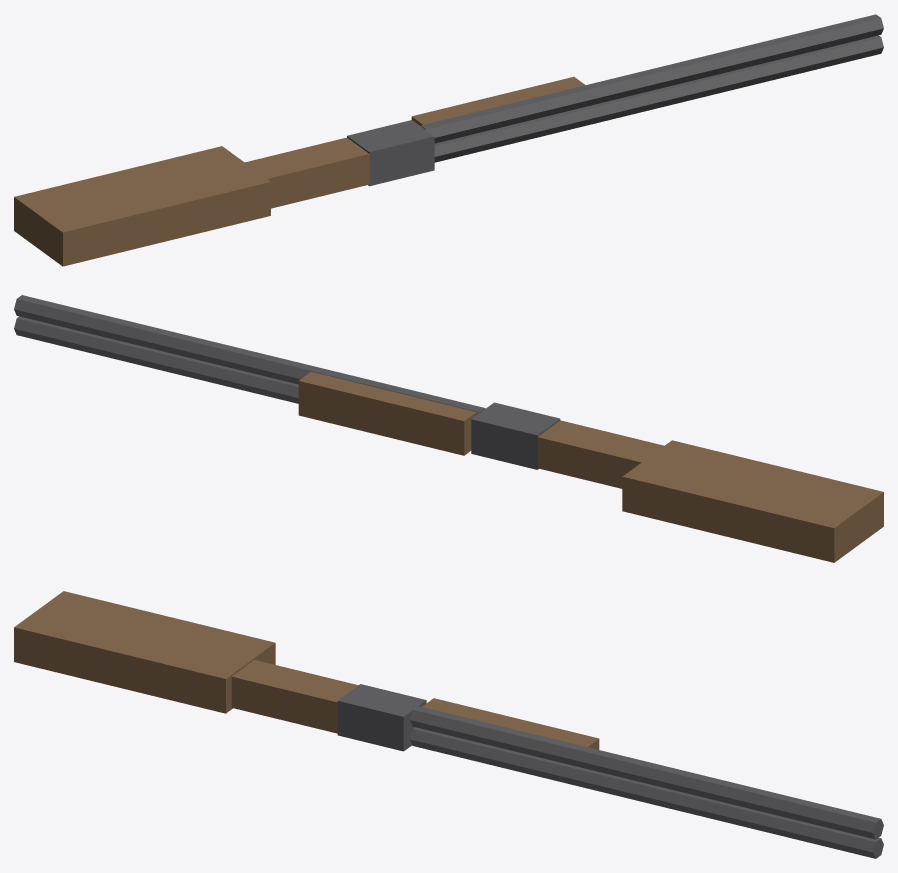
The model's file is SM_Shotgun.glb.
3 views of the same model, one above another, from view 1: azimuth 30°, elevation 25°; view 2: azimuth 150°, elevation 25°; view 3: azimuth 330°, elevation 25° (orthographic).
Parts seen in each view (by area): view 1: SM_Shotgun; view 2: SM_Shotgun; view 3: SM_Shotgun.
Boxes of the visible parts, <box> form: SM_Shotgun: <box>14,14,883,266</box>; SM_Shotgun: <box>14,295,883,562</box>; SM_Shotgun: <box>14,591,883,858</box>.
Bounding box in the file's own units: 1.28 × 0.0522 × 0.13.
